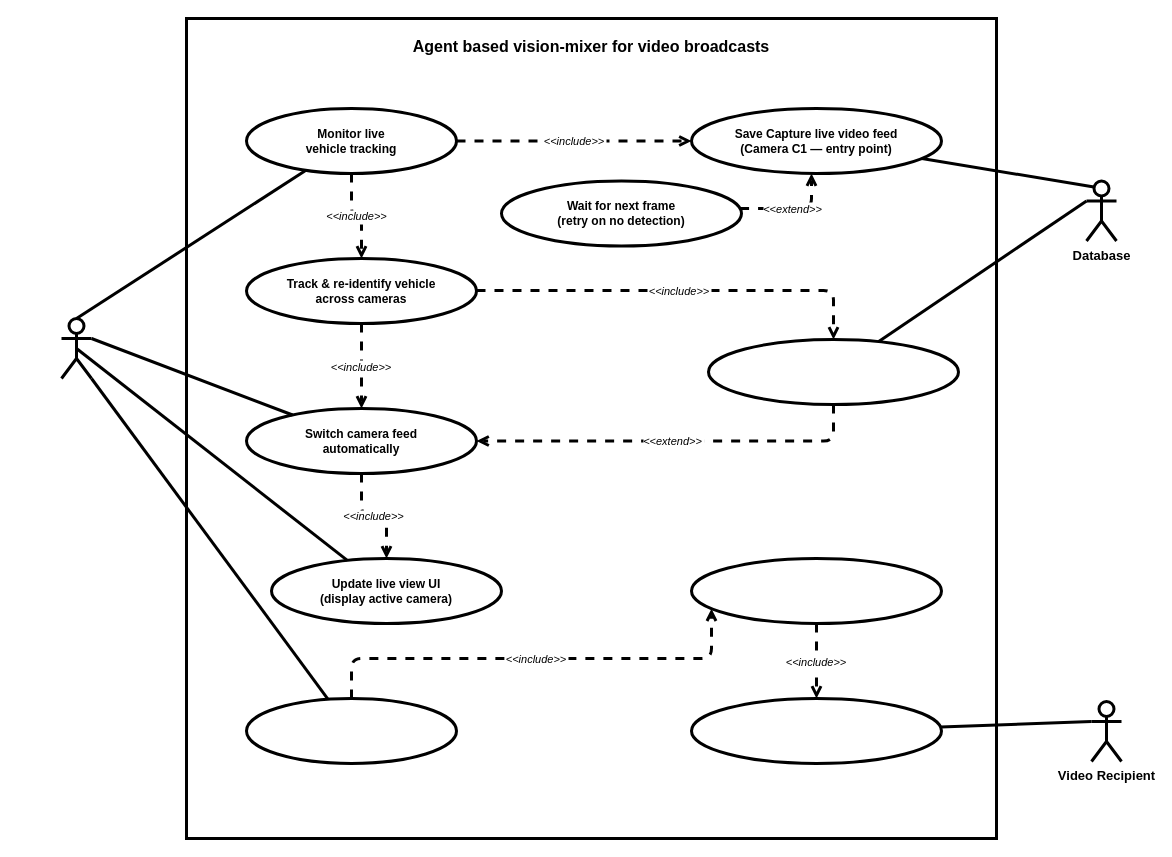
The diagram is 1172 pixels wide and 857 high, and some of its shapes have lost their labels. The centre of each missing label's shape, as x and y in pixels:
"Generate & stitch full journey video" goes at point 816,590.
"Request full journey video" goes at point 351,730.
"Security Operator" goes at point 76,348.
"Send compiled video via email" goes at point 816,730.
"Svea Capture feed from other cameras (C2…Cn)" goes at point 833,372.
